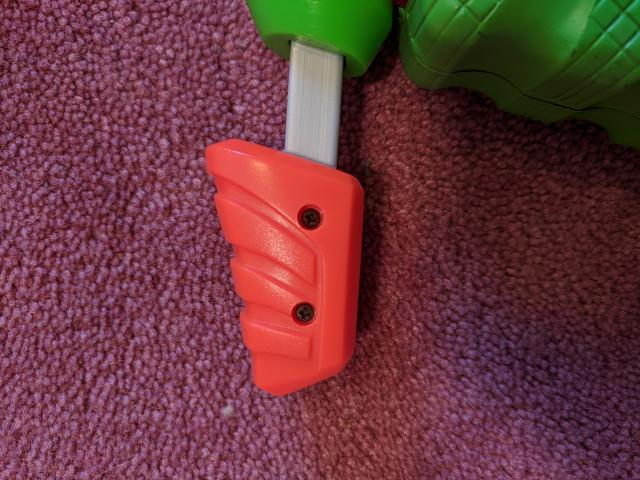CRS: (298, 206, 324, 231), (295, 302, 316, 326)
